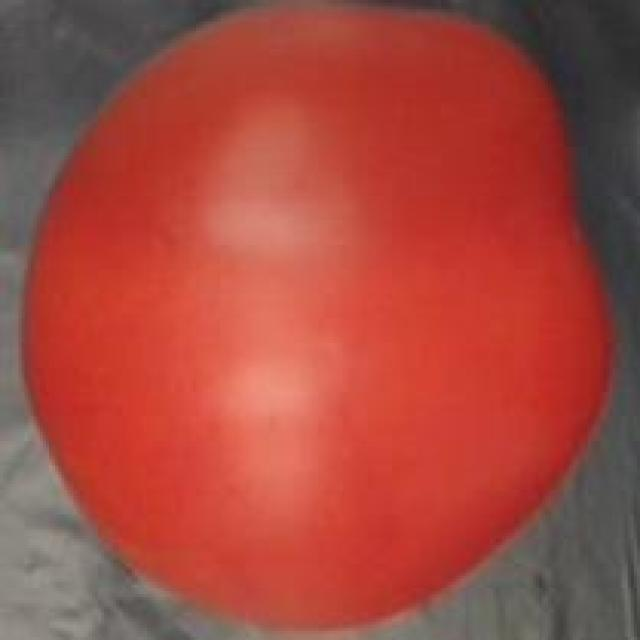ripe tomato: (12, 3, 625, 640)
